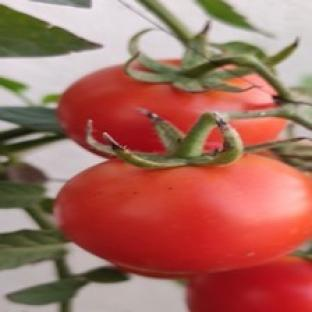Tomato: (56, 155, 311, 277), (58, 66, 275, 151), (187, 257, 311, 311)
